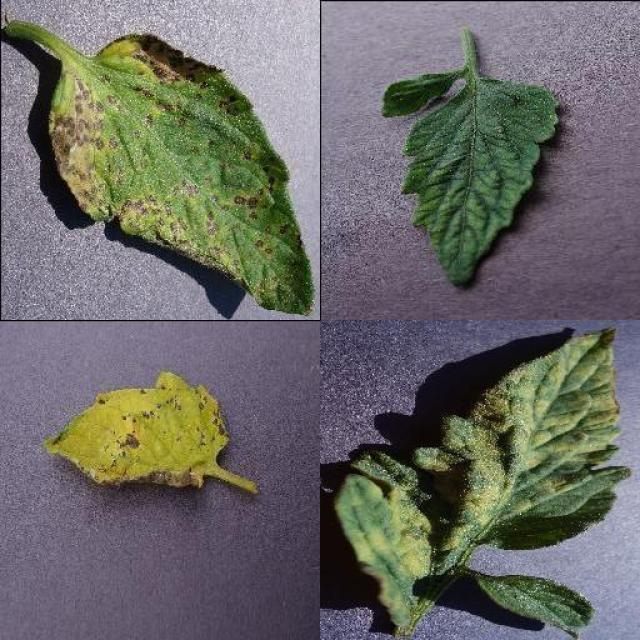Septoria: (45, 34, 315, 316), (41, 366, 229, 492)
